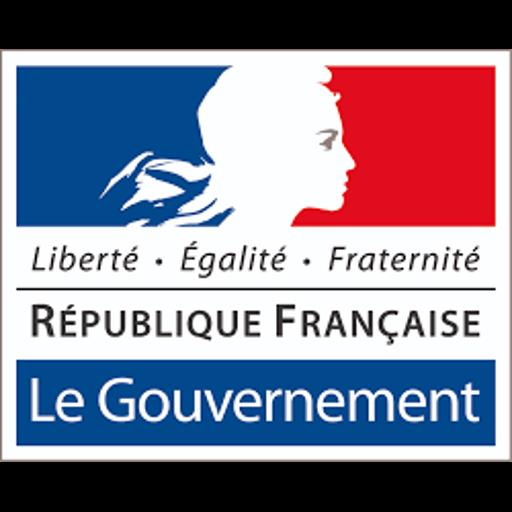DGI -French Tax Authority-: (0, 49, 512, 462)
